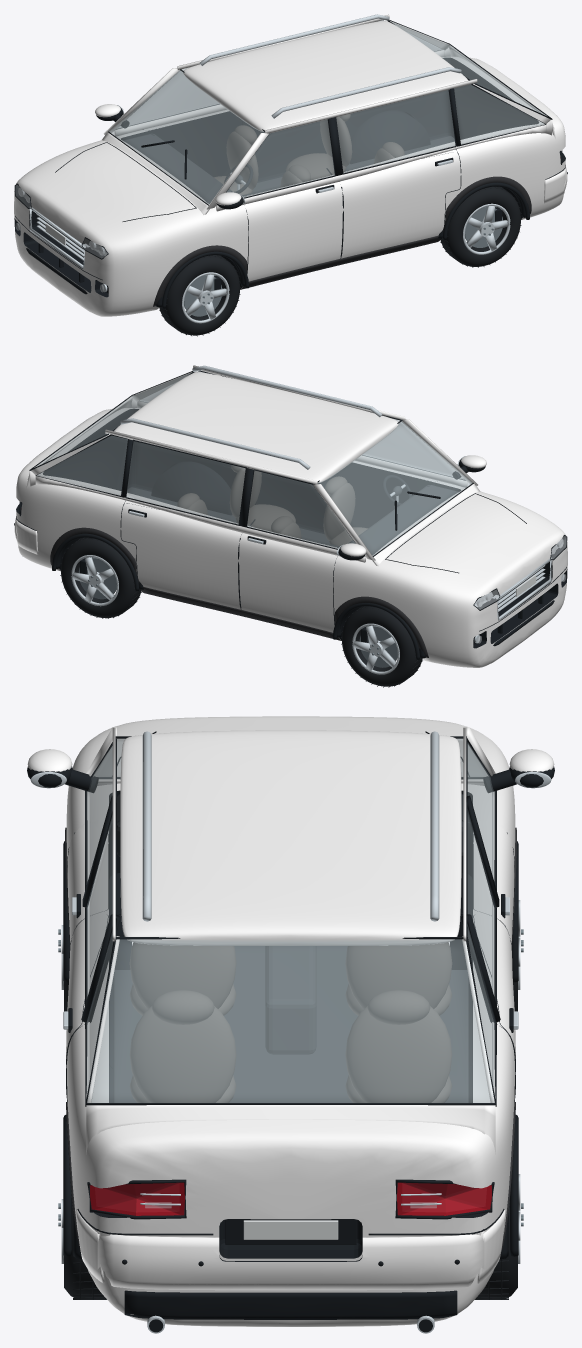
Rendered from suv.glb.
3 views of the same model, one above another, from view 1: azimuth 30°, elevation 25°; view 2: azimuth 150°, elevation 25°; view 3: azimuth 270°, elevation 25° (orthographic). The views are drawn at different scales.
Parts seen in each view (by area): view 1: Original compact_suv fourteen-section body shell, Crowned roof pressing, Raked transparent windscreen, Separate closed door panel.001, Separate closed door panel, Rear door transparent glass, Front door transparent glass, Separate closed door panel.002, Original tyre carcass and shaped sidewalls, Original tyre carcass and shaped sidewalls.002, Extended rear quarter glazing, Wheelhouse arched liner.003 (+30 smaller); view 2: Original compact_suv fourteen-section body shell, Crowned roof pressing, Raked transparent windscreen, Separate closed door panel.003, Separate closed door panel.002, Rear door transparent glass.001, Front door transparent glass.001, Separate closed door panel, Original tyre carcass and shaped sidewalls.001, Original tyre carcass and shaped sidewalls.003, Extended rear quarter glazing.001, Wheelhouse arched liner.002 (+32 smaller); view 3: Crowned roof pressing, Original compact_suv fourteen-section body shell, Rear transparent hatch glass, Interior carpet, Formed painted rear bumper cover, Sculpted rear lower bumper insert, Contoured seat back.002, Contoured seat back.003, Painted rear glass sill, Center console, Contoured seat back, Contoured seat back.001 (+37 smaller).
Part boxes in pixels (x1=…): Original compact_suv fourteen-section body shell: x1=14, y1=56, x2=565, y2=316; Crowned roof pressing: x1=183, y1=21, x2=468, y2=131; Raked transparent windscreen: x1=109, y1=70, x2=264, y2=204; Separate closed door panel.001: x1=340, y1=152, x2=460, y2=258; Separate closed door panel: x1=244, y1=175, x2=342, y2=281; Rear door transparent glass: x1=336, y1=90, x2=455, y2=172; Front door transparent glass: x1=227, y1=119, x2=334, y2=197; Separate closed door panel.002: x1=143, y1=109, x2=241, y2=176; Original tyre carcass and shaped sidewalls: x1=159, y1=255, x2=239, y2=335; Original tyre carcass and shaped sidewalls.002: x1=440, y1=186, x2=520, y2=266; Extended rear quarter glazing: x1=454, y1=84, x2=544, y2=144; Wheelhouse arched liner.003: x1=350, y1=110, x2=430, y2=163; Original compact_suv fourteen-section body shell: x1=16, y1=408, x2=567, y2=667; Crowned roof pressing: x1=114, y1=372, x2=398, y2=482; Raked transparent windscreen: x1=317, y1=421, x2=472, y2=555; Separate closed door panel.003: x1=121, y1=503, x2=242, y2=609; Separate closed door panel.002: x1=239, y1=527, x2=337, y2=632; Rear door transparent glass.001: x1=126, y1=441, x2=245, y2=524; Front door transparent glass.001: x1=247, y1=470, x2=355, y2=548; Separate closed door panel: x1=340, y1=460, x2=438, y2=528; Original tyre carcass and shaped sidewalls.001: x1=342, y1=606, x2=422, y2=686; Original tyre carcass and shaped sidewalls.003: x1=61, y1=537, x2=141, y2=618; Extended rear quarter glazing.001: x1=37, y1=435, x2=127, y2=495; Wheelhouse arched liner.002: x1=151, y1=461, x2=232, y2=515; Crowned roof pressing: x1=120, y1=730, x2=461, y2=945; Original compact_suv fourteen-section body shell: x1=66, y1=716, x2=515, y2=1326; Rear transparent hatch glass: x1=87, y1=939, x2=494, y2=1102; Interior carpet: x1=113, y1=946, x2=468, y2=1102; Formed painted rear bumper cover: x1=97, y1=1231, x2=484, y2=1290; Sculpted rear lower bumper insert: x1=124, y1=1290, x2=457, y2=1319; Contoured seat back.002: x1=129, y1=1006, x2=236, y2=1102; Contoured seat back.003: x1=345, y1=1006, x2=452, y2=1102; Painted rear glass sill: x1=86, y1=1105, x2=495, y2=1154; Center console: x1=265, y1=946, x2=316, y2=1054; Contoured seat back: x1=129, y1=942, x2=236, y2=1008; Contoured seat back.001: x1=345, y1=942, x2=452, y2=1008.
Bounding box in the file's own units: 4.49 × 1.73 × 2.17.
12 materials, 11 textured.
